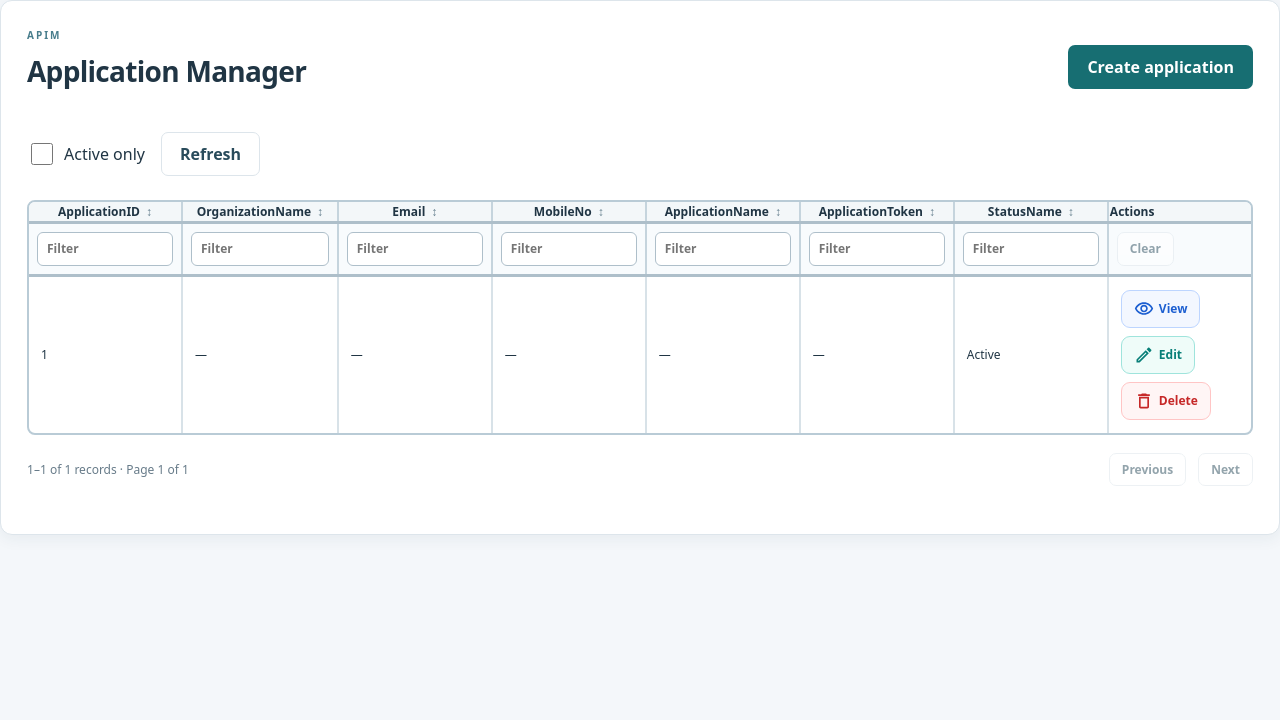
Test: opens row details and dismisses the application popup
The image size is (1280, 720).
Click the button with aria-label "View application" at (1161, 308), box [1121,290,1200,328]
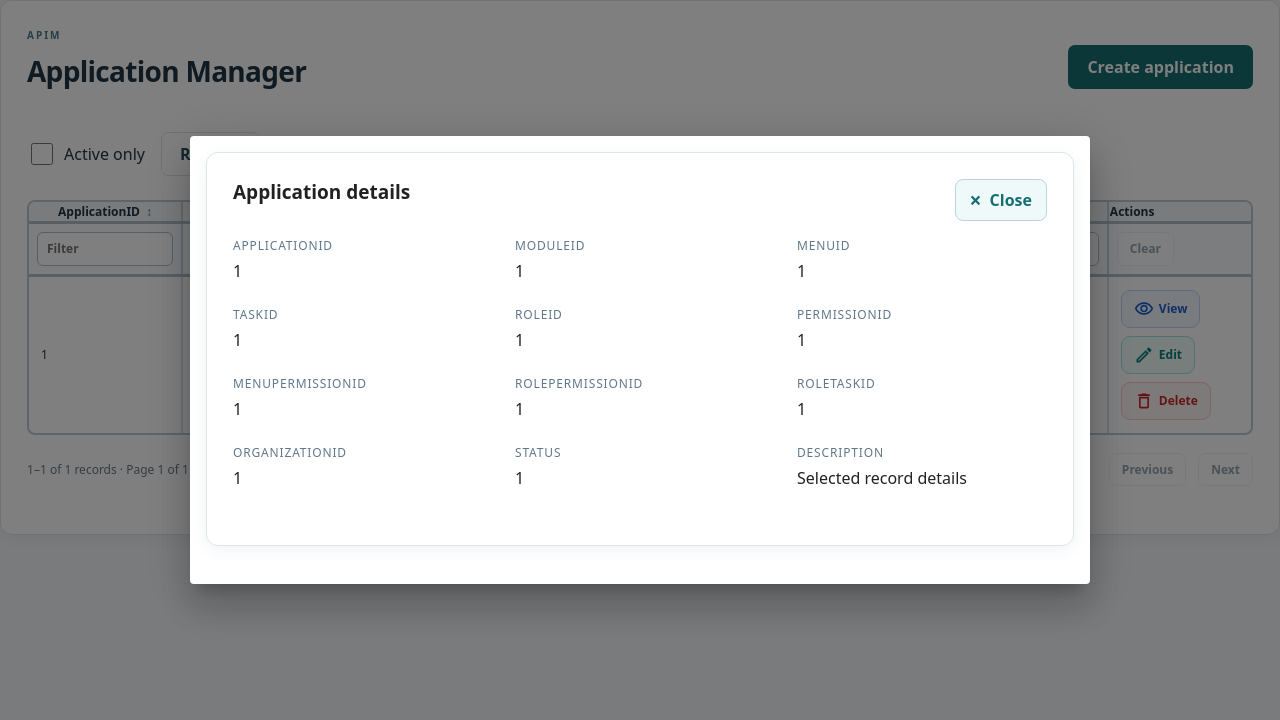
Expected: the text "Selected record details" is shown, [797,467,967,489]
Click the button "Close" at (1001, 200), box [955,179,1047,221]
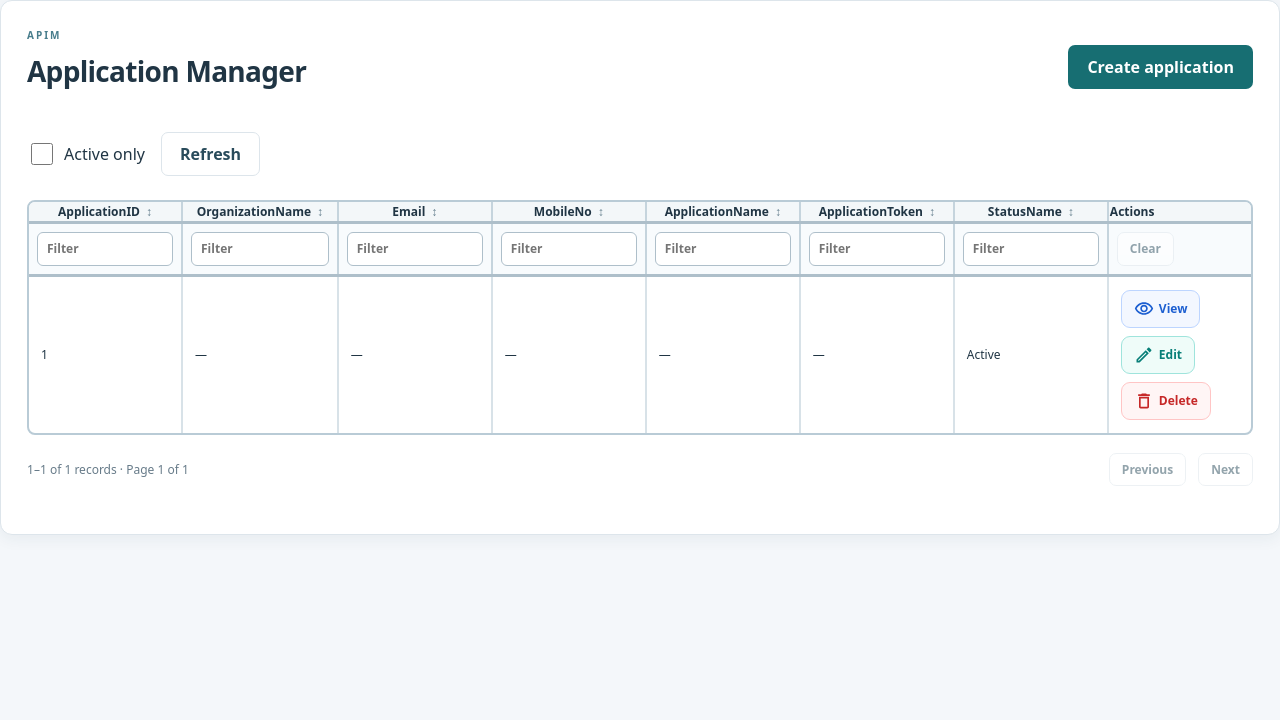
Expected: the dialog is gone
Click the button with aria-label "View application" at (1161, 308), box [1121,290,1200,328]
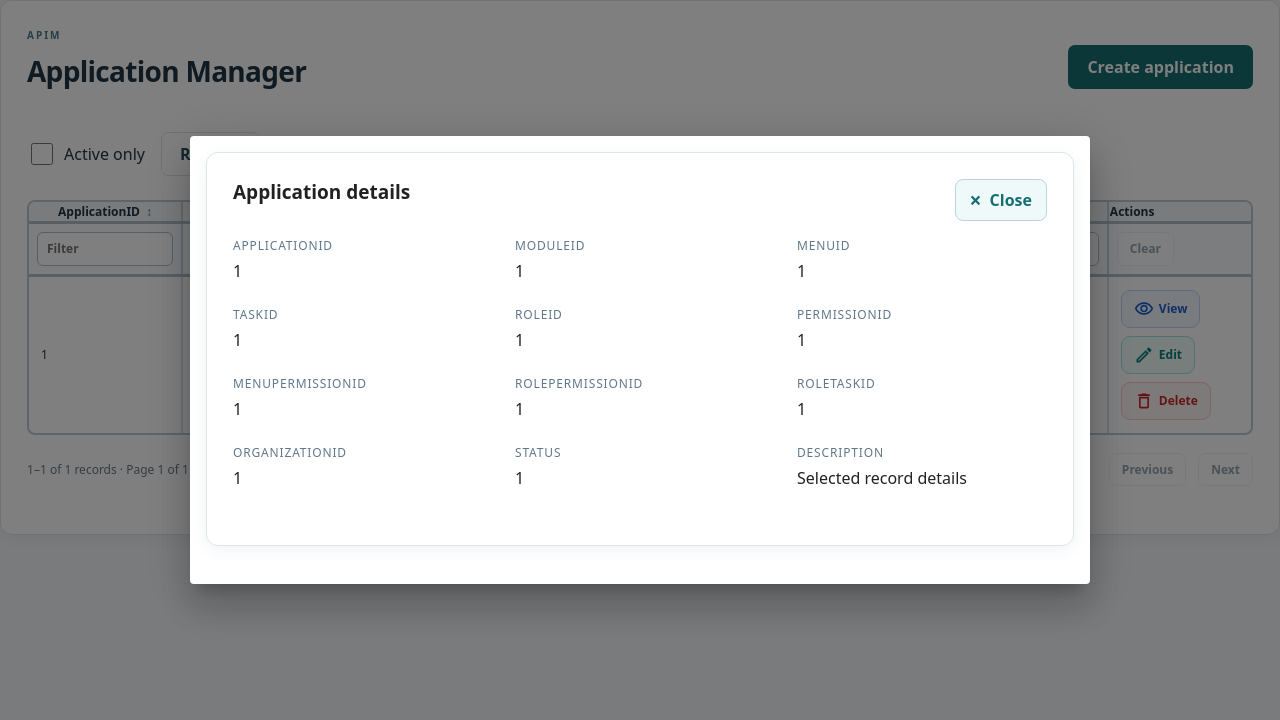
Press Escape in the dialog, box [190,136,1090,584]
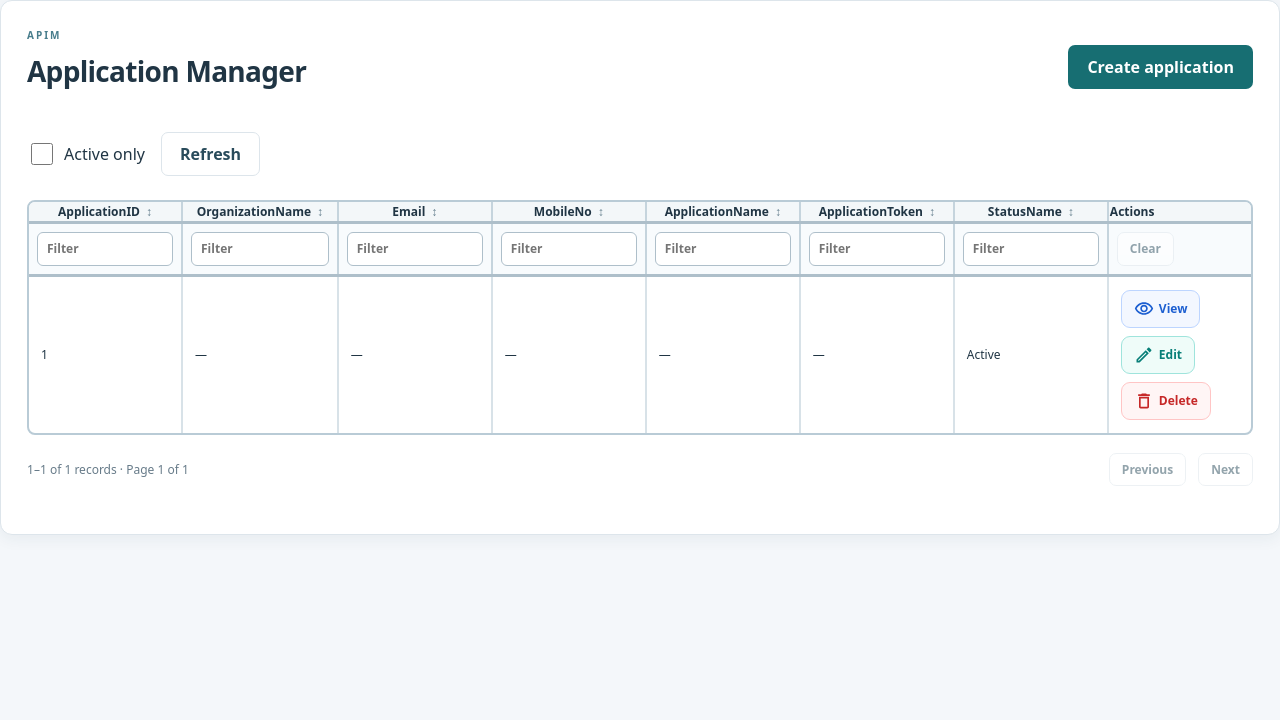
Expected: the dialog is gone
